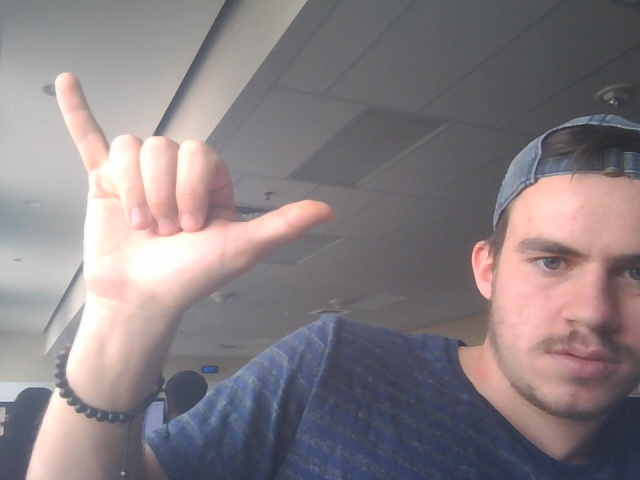birdsup: (50, 69, 341, 342)
